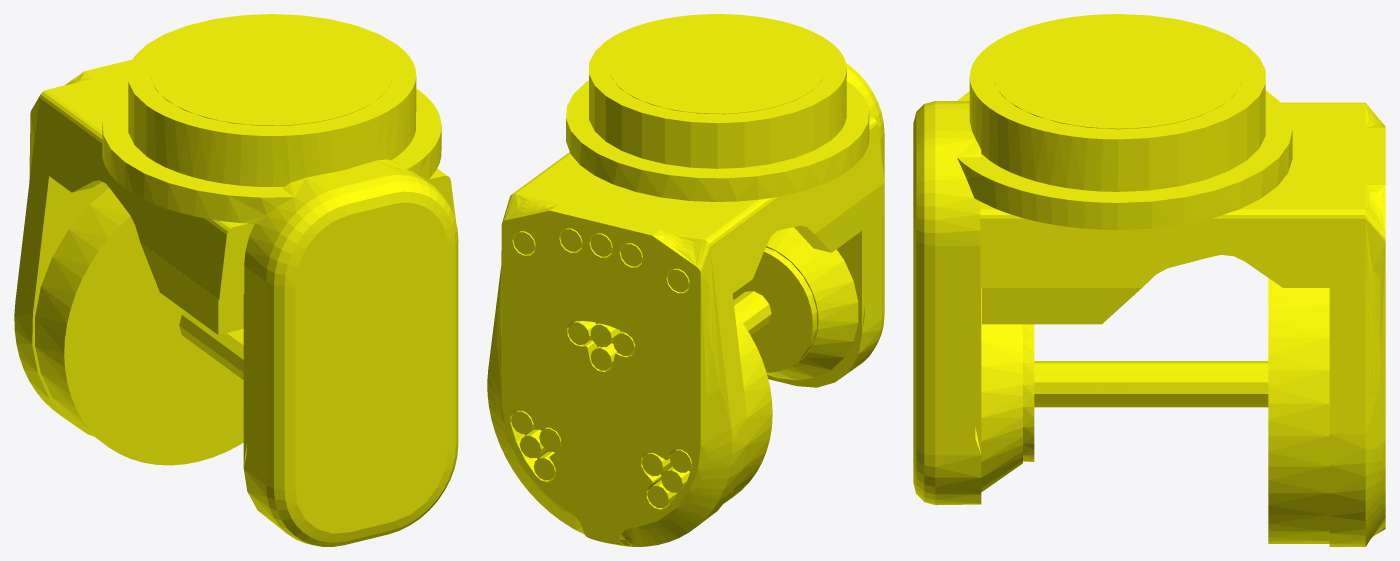
3 views of the same model, side by side, from view 1: azimuth 30°, elevation 25°; view 2: azimuth 150°, elevation 25°; view 3: azimuth 270°, elevation 25° (orthographic). The views are drawn at different scales.
Parts seen in each view (by area): view 1: node; view 2: node; view 3: node.
Part boxes in pixels (x1,y1,x2,y2): node: [14, 14, 458, 546]; node: [487, 14, 884, 546]; node: [913, 14, 1385, 546].
Size of the model in its own units: 222 by 320 by 300.
